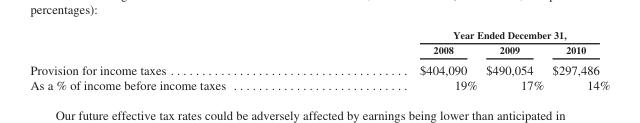table: (29, 28, 609, 91)
table column: (29, 28, 322, 91), (322, 28, 481, 91), (481, 28, 547, 91), (547, 28, 609, 91)
table column header: (29, 28, 609, 59)
table row: (29, 42, 609, 59), (29, 59, 609, 76), (29, 76, 609, 91), (29, 28, 609, 42)
table spanning cell: (322, 28, 609, 42)
